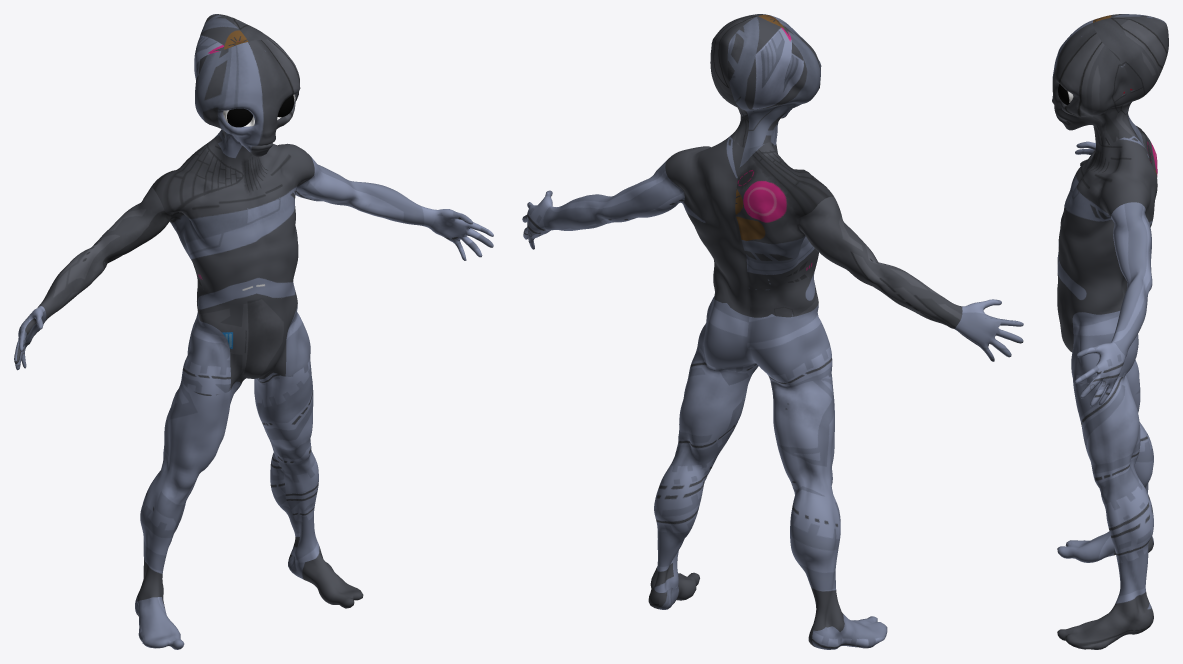
3 views of the same model, side by side, from view 1: azimuth 30°, elevation 25°; view 2: azimuth 150°, elevation 25°; view 3: azimuth 270°, elevation 25° (orthographic). The views are drawn at different scales.
Parts seen in each view (by area): view 1: Group41073; view 2: Group41073; view 3: Group41073.
Part boxes in pixels (box(x1,y1,x2,y2)): Group41073: box(14, 14, 493, 649); Group41073: box(522, 14, 1023, 649); Group41073: box(1052, 14, 1168, 649).
Bounding box in the file's own units: 5.63 × 6.59 × 1.19.
